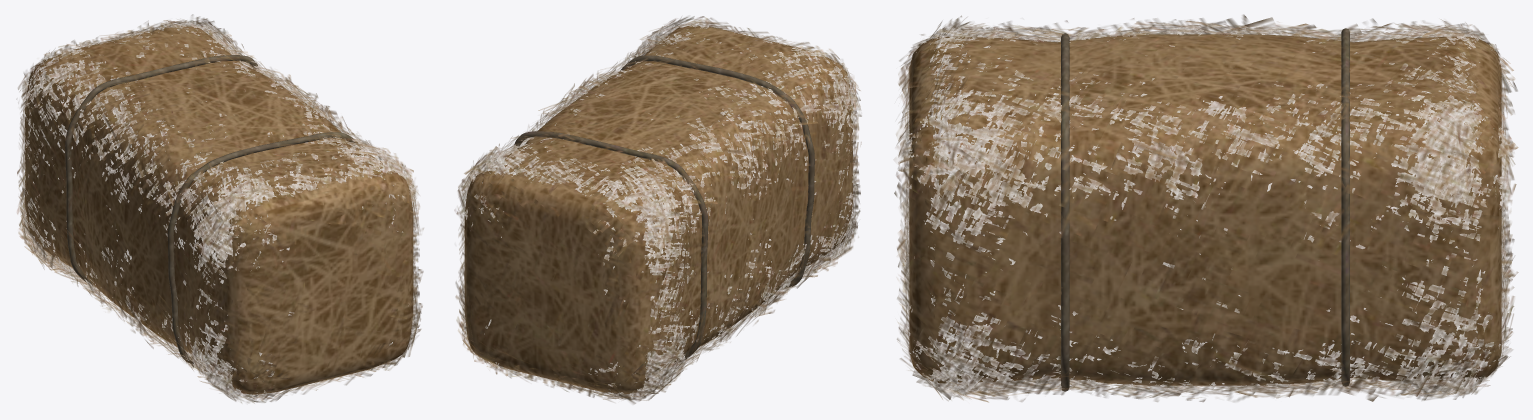
The model's file is hay_bale.glb.
The picture shows the model from 3 angles, left to right: view 1: azimuth 30°, elevation 25°; view 2: azimuth 150°, elevation 25°; view 3: azimuth 270°, elevation 25°; orthographic projection. The views are drawn at different scales.
Visible parts, largest first — view 1: Hay_bale_latest:Hay_Hay_bale_latest:Hay_bale1_0; view 2: Hay_bale_latest:Hay_Hay_bale_latest:Hay_bale1_0; view 3: Hay_bale_latest:Hay_Hay_bale_latest:Hay_bale1_0.
Boxes of the visible parts, left/top/right/bottom form: Hay_bale_latest:Hay_Hay_bale_latest:Hay_bale1_0: left=17, top=14, right=423, bottom=403; Hay_bale_latest:Hay_Hay_bale_latest:Hay_bale1_0: left=454, top=16, right=861, bottom=403; Hay_bale_latest:Hay_Hay_bale_latest:Hay_bale1_0: left=894, top=14, right=1518, bottom=402.
Size of the model in its own units: 0.6568 by 0.6521 by 1.2.
1 material, 1 textured.
